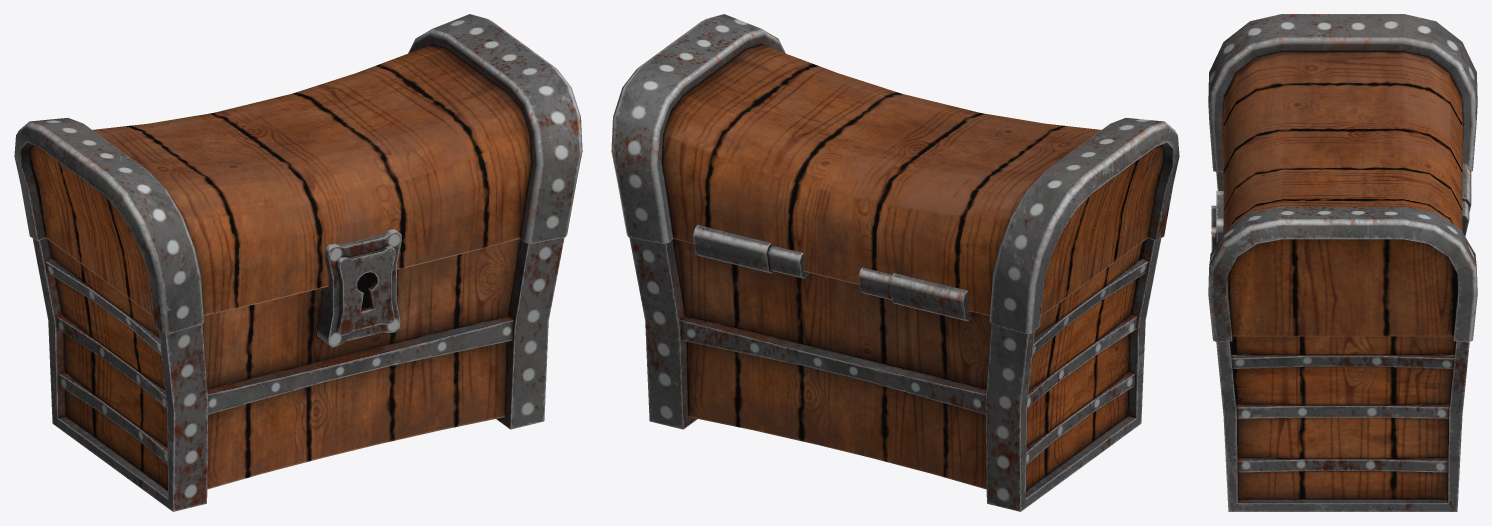
Rendered from uploads_files_5467930_Chest.dae.
The picture shows the model from 3 angles, left to right: view 1: azimuth 30°, elevation 25°; view 2: azimuth 150°, elevation 25°; view 3: azimuth 270°, elevation 25°; orthographic projection. The views are drawn at different scales.
Parts seen in each view (by area): view 1: Chest lid, Chest base; view 2: Chest lid, Chest base; view 3: Chest lid, Chest base.
Part boxes in pixels (x1,y1,x2,y2): Chest lid: [14, 14, 582, 334]; Chest base: [32, 228, 564, 511]; Chest lid: [611, 14, 1179, 334]; Chest base: [629, 225, 1161, 511]; Chest lid: [1208, 14, 1477, 342]; Chest base: [1211, 164, 1471, 511].
Size of the model in its own units: 4.76 by 2.56 by 3.25.
Materials: 1 (1 with a texture image).
